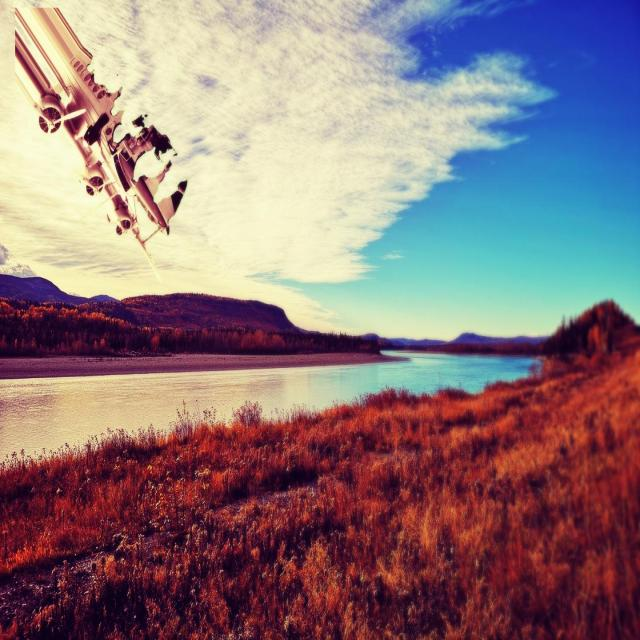airplane: (13, 5, 187, 283)
